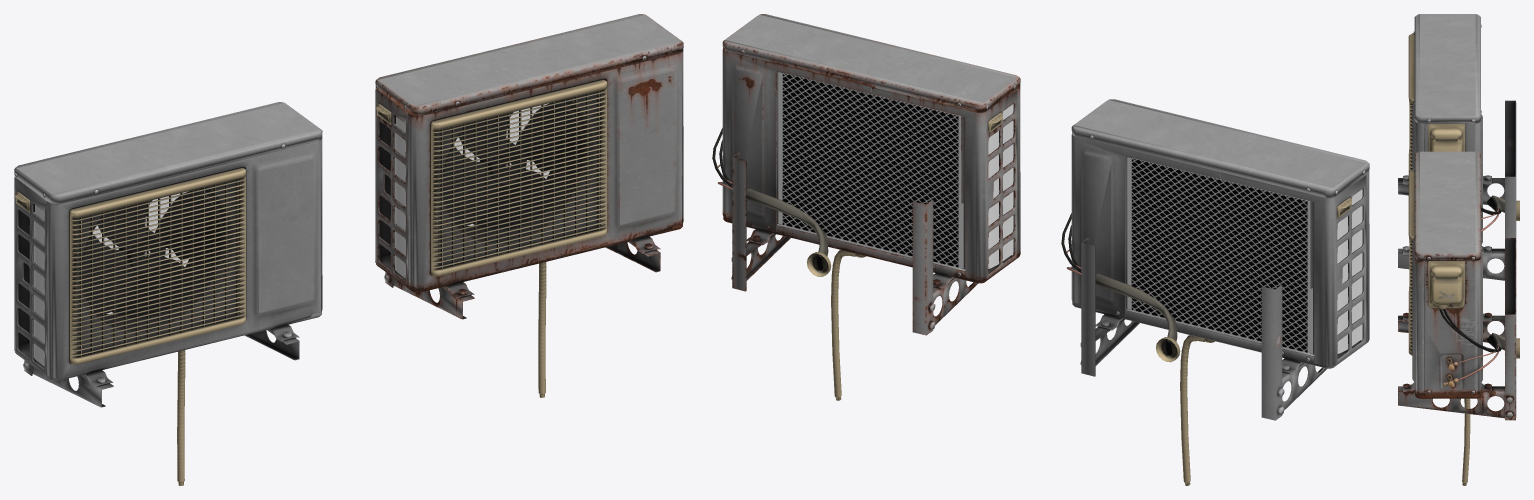
Rendered from exterior_aircon_unit.glb.
3 views of the same model, side by side, from view 1: azimuth 30°, elevation 25°; view 2: azimuth 150°, elevation 25°; view 3: azimuth 270°, elevation 25° (orthographic). The views are drawn at different scales.
Parts seen in each view (by area): view 1: exterior_aircon_unit; view 2: exterior_aircon_unit; view 3: exterior_aircon_unit.
Part boxes in pixels (x1=…): exterior_aircon_unit: x1=14, y1=14, x2=683, y2=485; exterior_aircon_unit: x1=712, y1=14, x2=1369, y2=485; exterior_aircon_unit: x1=1398, y1=14, x2=1519, y2=485.
Bounding box in the file's own units: 1.8 × 0.928 × 0.3742.
4 materials, 4 textured.
